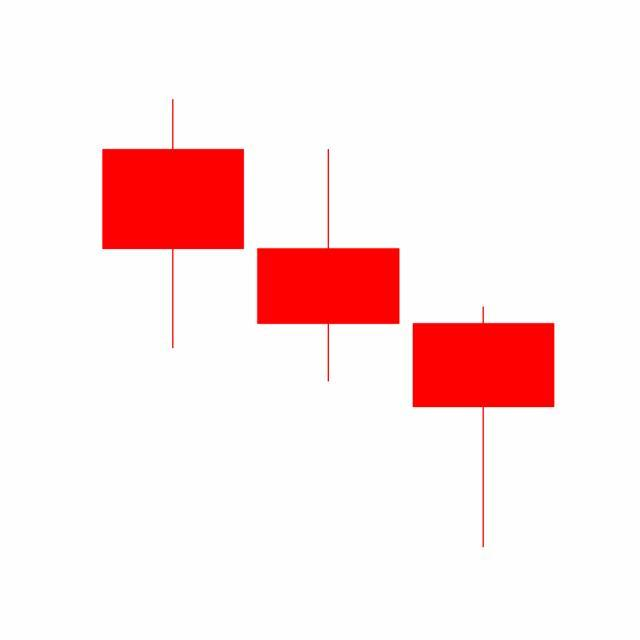Hammer: (406, 305, 562, 552)
